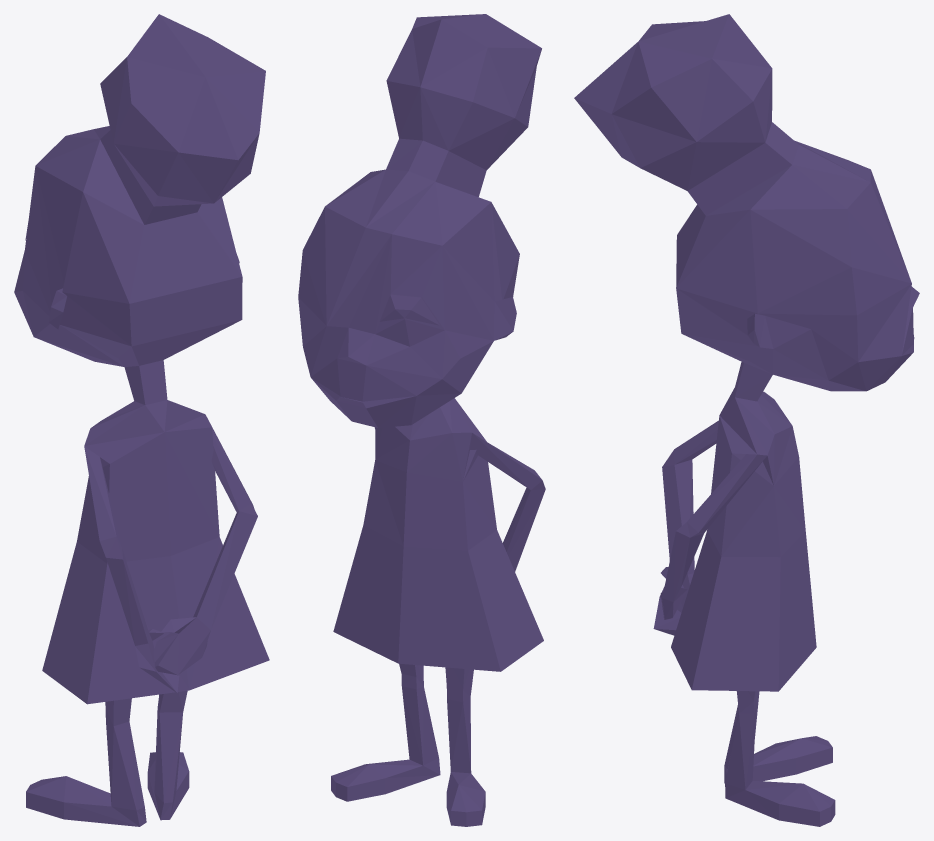
Rendered from libystop.glb.
3 views of the same model, side by side, from view 1: azimuth 30°, elevation 25°; view 2: azimuth 150°, elevation 25°; view 3: azimuth 270°, elevation 25° (orthographic). The views are drawn at different scales.
Parts seen in each view (by area): view 1: libystop; view 2: libystop; view 3: libystop.
Part boxes in pixels (x1=…): libystop: x1=14, y1=14, x2=269, y2=826; libystop: x1=298, y1=14, x2=545, y2=826; libystop: x1=574, y1=14, x2=919, y2=826.
Size of the model in its own units: 52.41 by 215 by 86.34.
